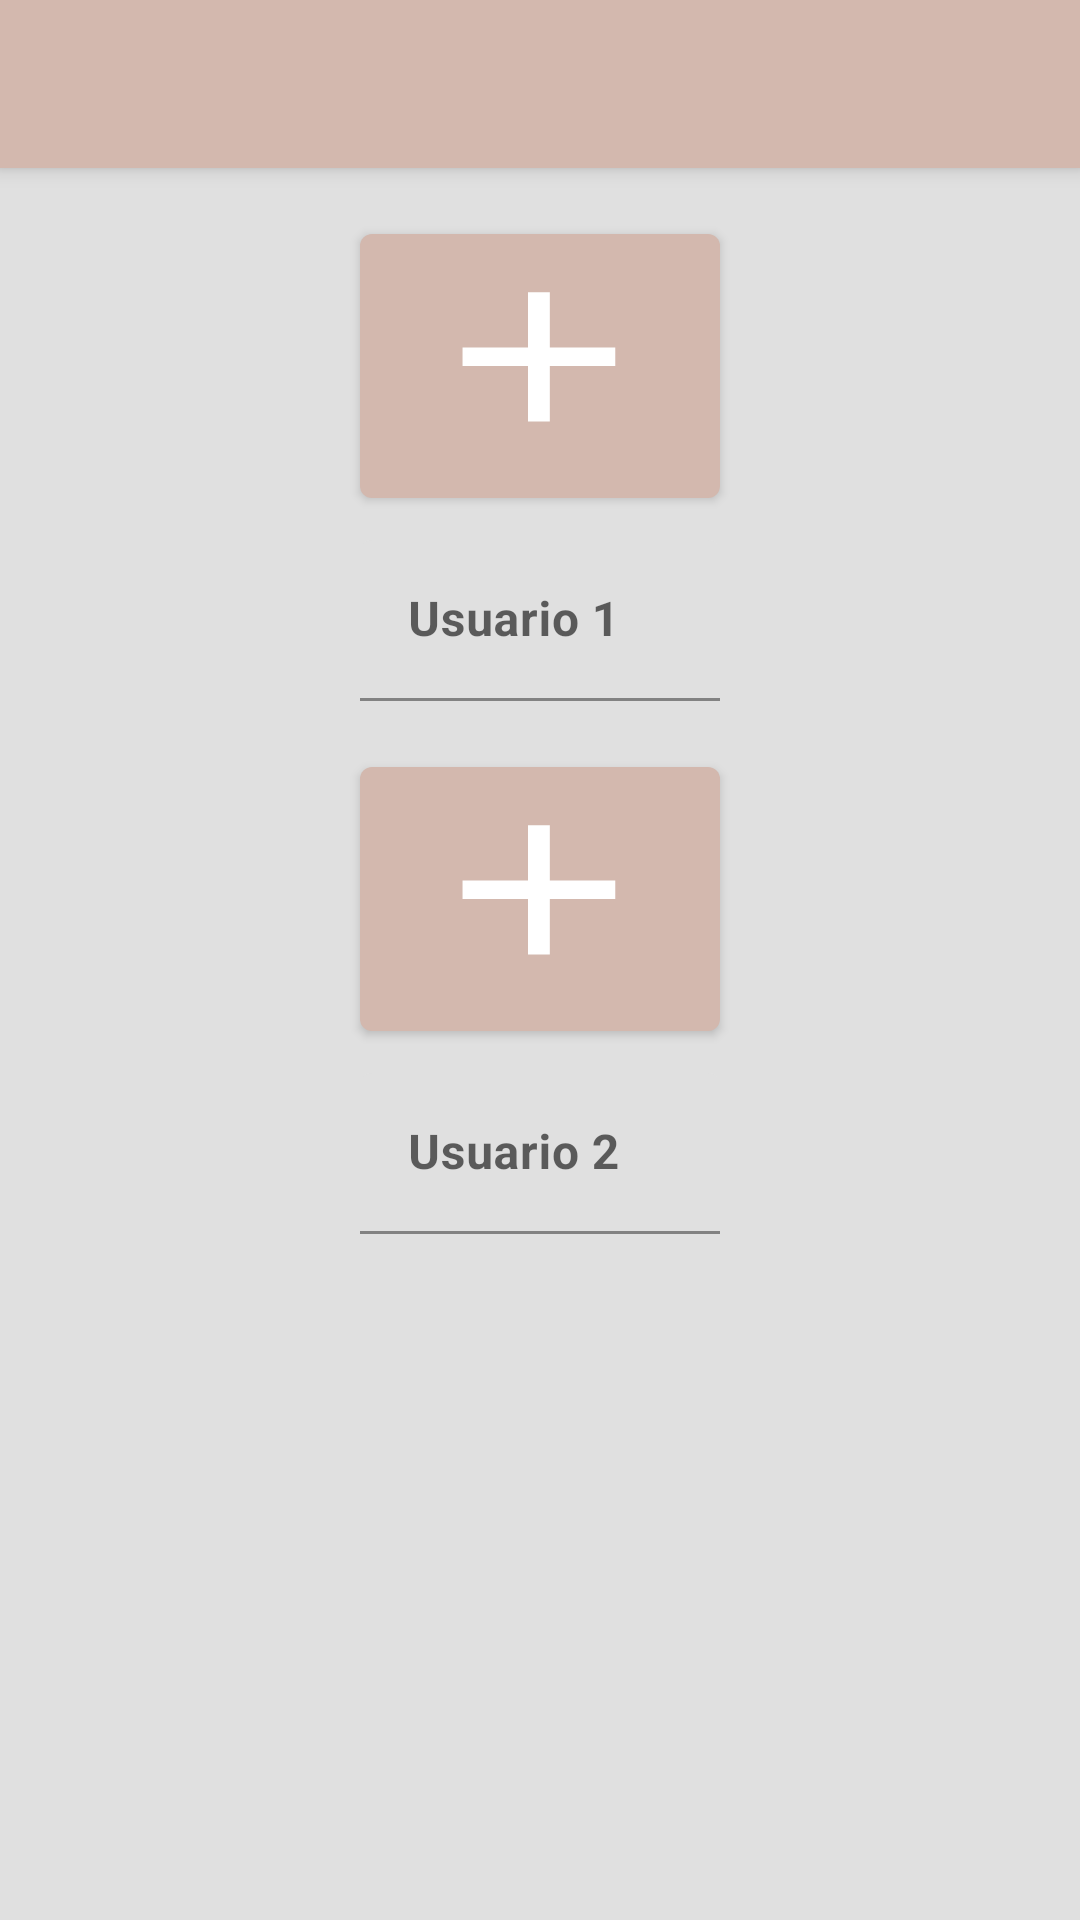

Named icons in this screenshot (1080×1920) and their centers, (x=x, y=y):
plus: (x=540, y=366), (x=540, y=899)
